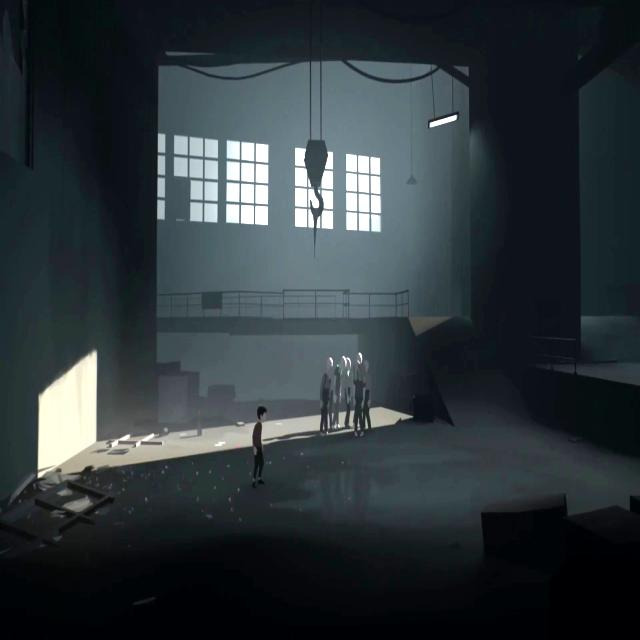boy: (249, 403, 269, 488)
zombie: (320, 356, 333, 437), (354, 363, 366, 437), (334, 356, 346, 428), (364, 360, 372, 432), (347, 357, 351, 429), (356, 352, 362, 363)
